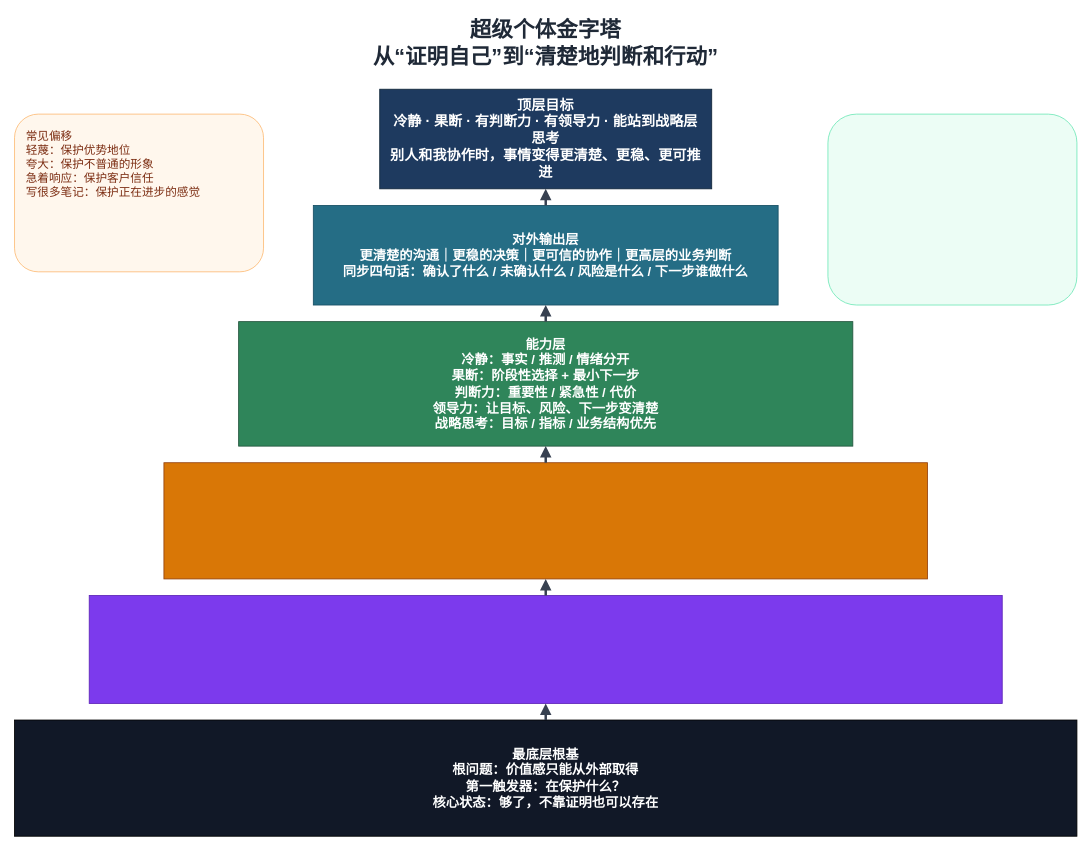
Image size: 1091x851. Some labels were removed from this diagram. Each missing label, with the centre of its shape:
"决策路线 目标是什么 事实是什么 哪些只是推测 我在怕什么 真实紧急程度 选项的收益和代价 最小下一步和对外同步" goes at (x=952, y=209).
"每日训练系统 真实场景：情绪 / 沟通 / 决策 / 领导 复盘输出：明天，如果遇到 X，我会做 Y 证据库：每日复盘 / 内省记录 / 真实案例" goes at (x=545, y=520).
"身体与注意力底盘 睡眠｜冥想｜晨练｜步数｜阅读｜英语输入 底盘不稳时，判断力会先下降" goes at (x=545, y=649).
